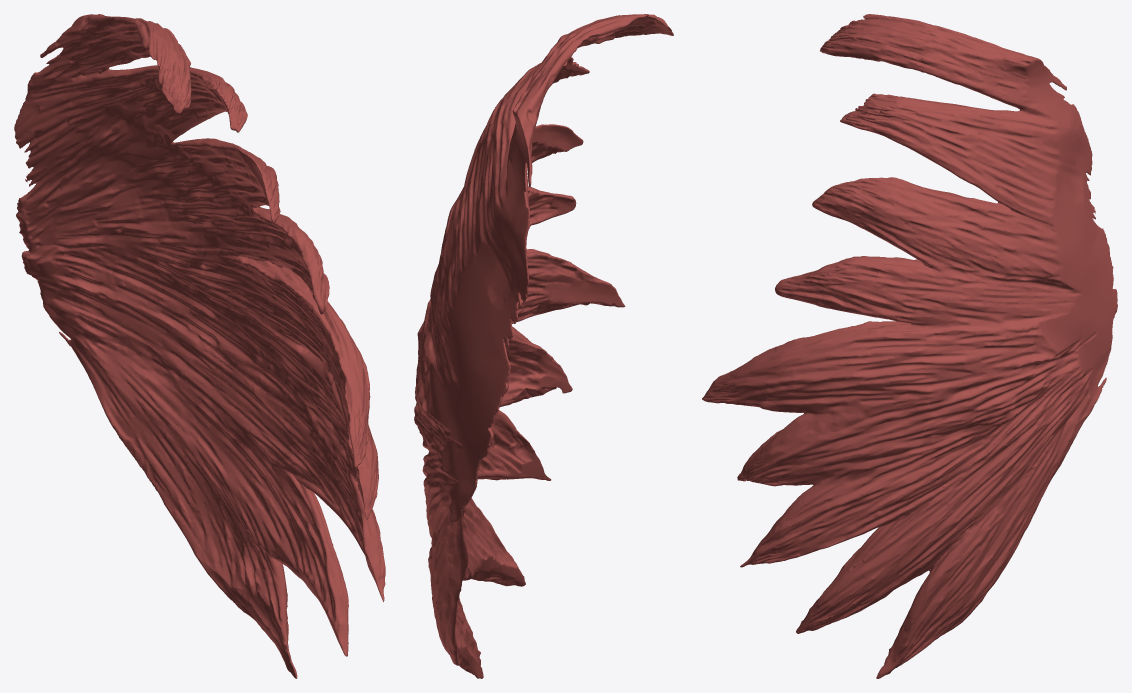
The model's file is FMA13399.glb.
The picture shows the model from 3 angles, left to right: view 1: azimuth 30°, elevation 25°; view 2: azimuth 150°, elevation 25°; view 3: azimuth 270°, elevation 25°; orthographic projection. The views are drawn at different scales.
Visible parts, largest first — view 1: FMA13399; view 2: FMA13399; view 3: FMA13399.
Part boxes in pixels (x1,y1,x2,y2): FMA13399: (14,14,385,678); FMA13399: (414,14,673,678); FMA13399: (702,14,1117,678).
Bounding box in the file's own units: 0.0836 × 0.2659 × 0.1666.
